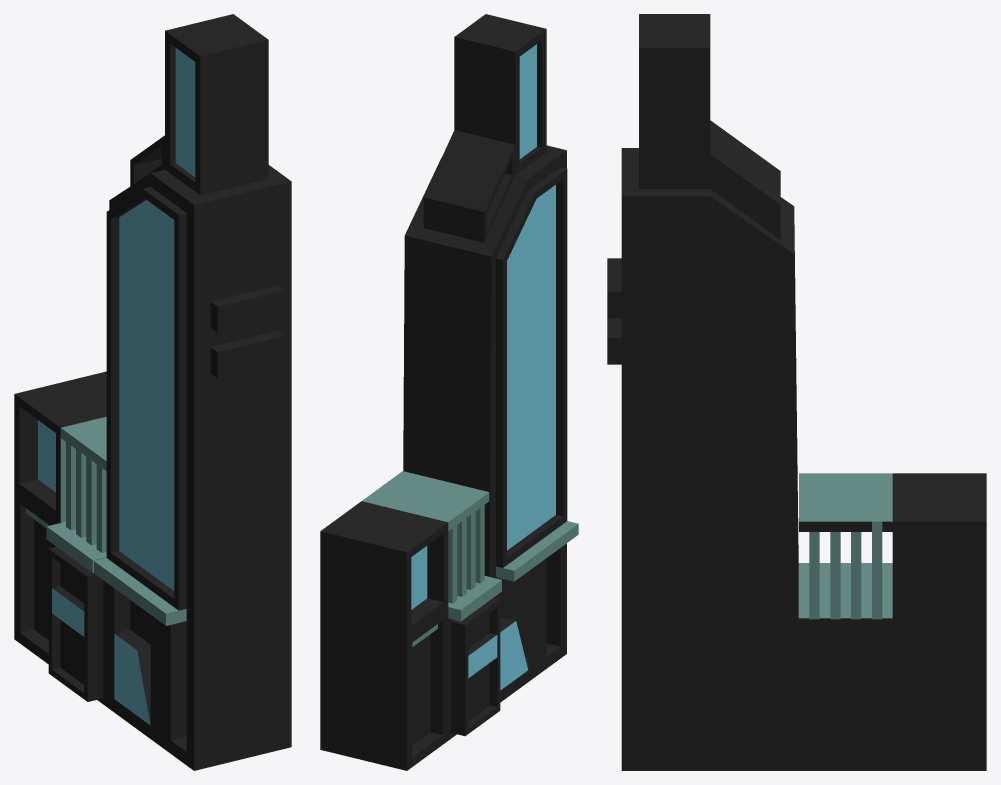
File: P_BUILDING 2.fbx
3 views of the same model, side by side, from view 1: azimuth 30°, elevation 25°; view 2: azimuth 150°, elevation 25°; view 3: azimuth 270°, elevation 25° (orthographic). The views are drawn at different scales.
Parts seen in each view (by area): view 1: Bangunan 1; view 2: Bangunan 1; view 3: Bangunan 1.
Part boxes in pixels (x1,y1,x2,y2): Bangunan 1: (14, 14, 291, 770); Bangunan 1: (320, 14, 578, 770); Bangunan 1: (607, 14, 986, 770).
Bounding box in the file's own units: 2602 × 948 × 5415.
